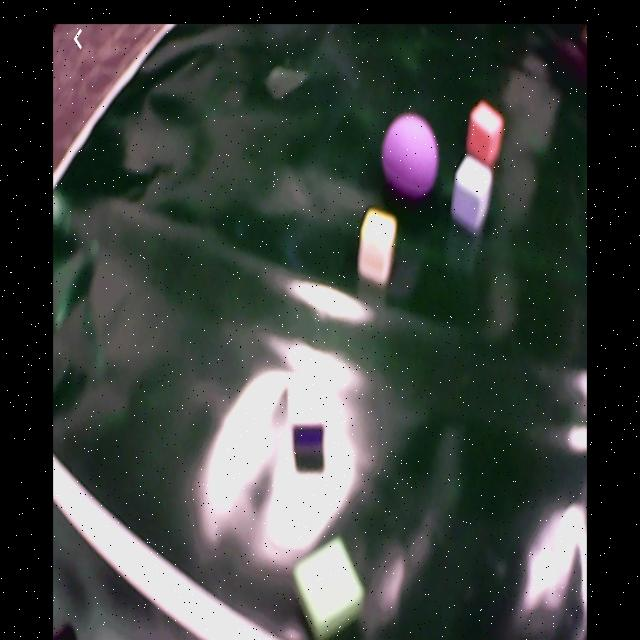ball: (383, 115, 439, 199)
